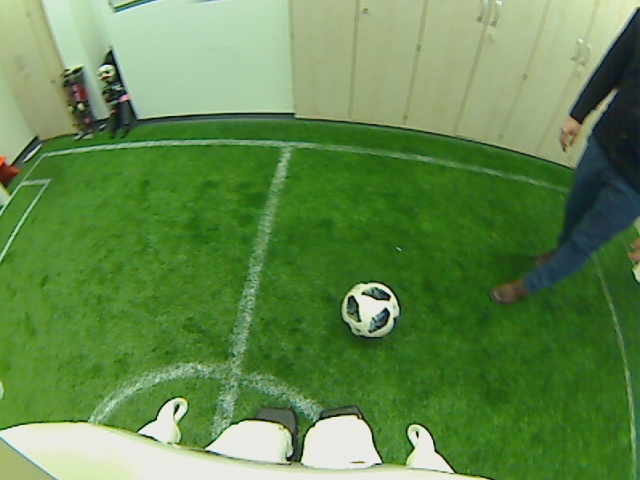ball: (342, 278, 401, 340)
